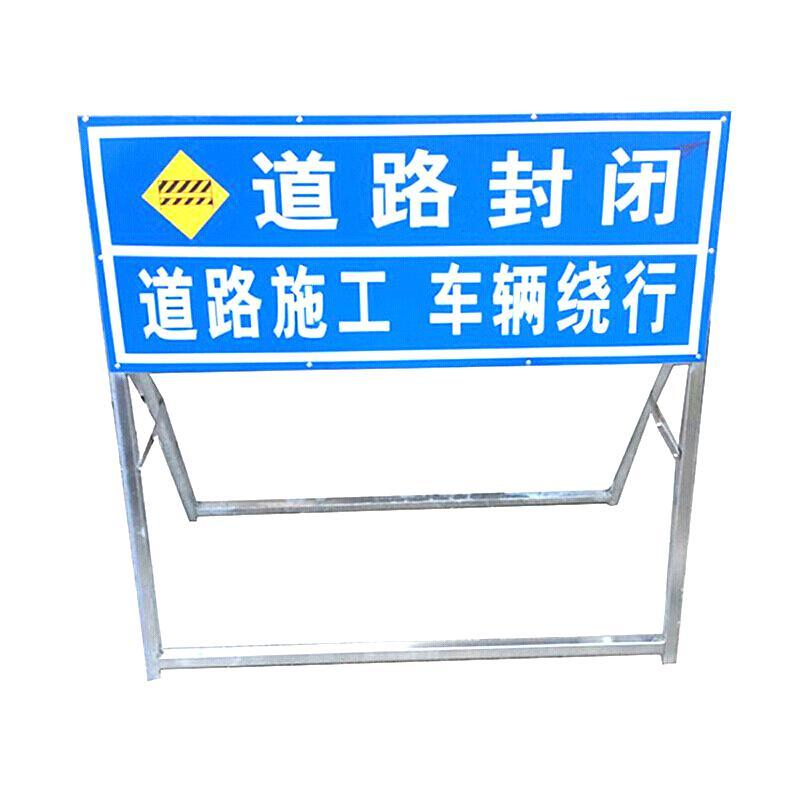sign: (77, 118, 711, 359)
